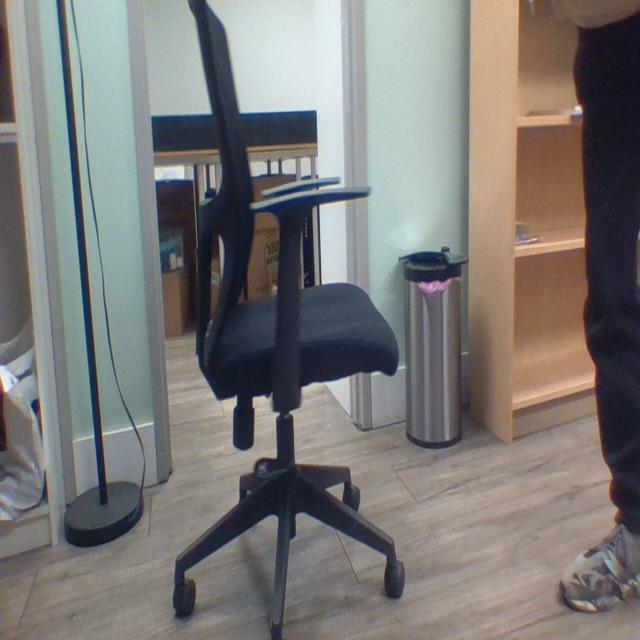black-chair: (182, 3, 400, 639)
